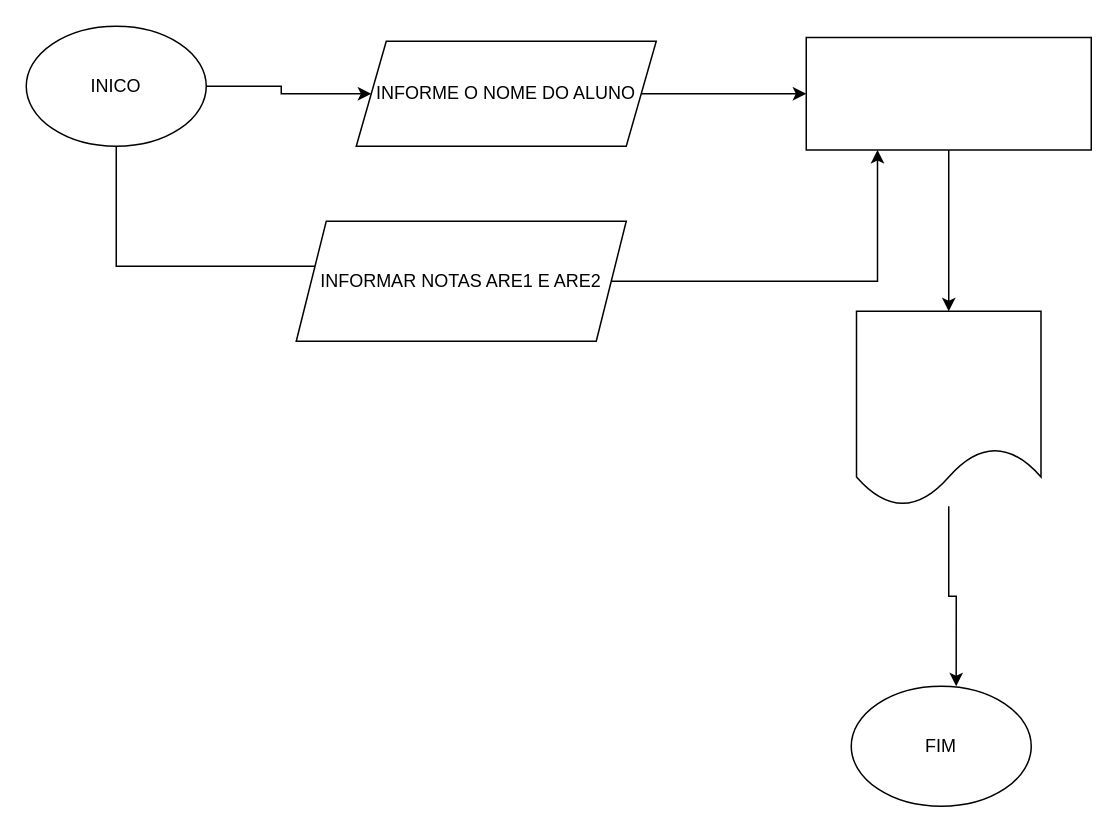
Some shapes in this 1118 by 833 pixel diagram are drawn without their labels. The centre of each missing label's shape, as x and y in pixels:
"CALCULAR MEDIA DO ALUNO ARE1 + ARE2 / 2" goes at point (948, 93).
"EXIBIR O NOME DO ALUNO E SUA MEDIA" goes at point (948, 408).
